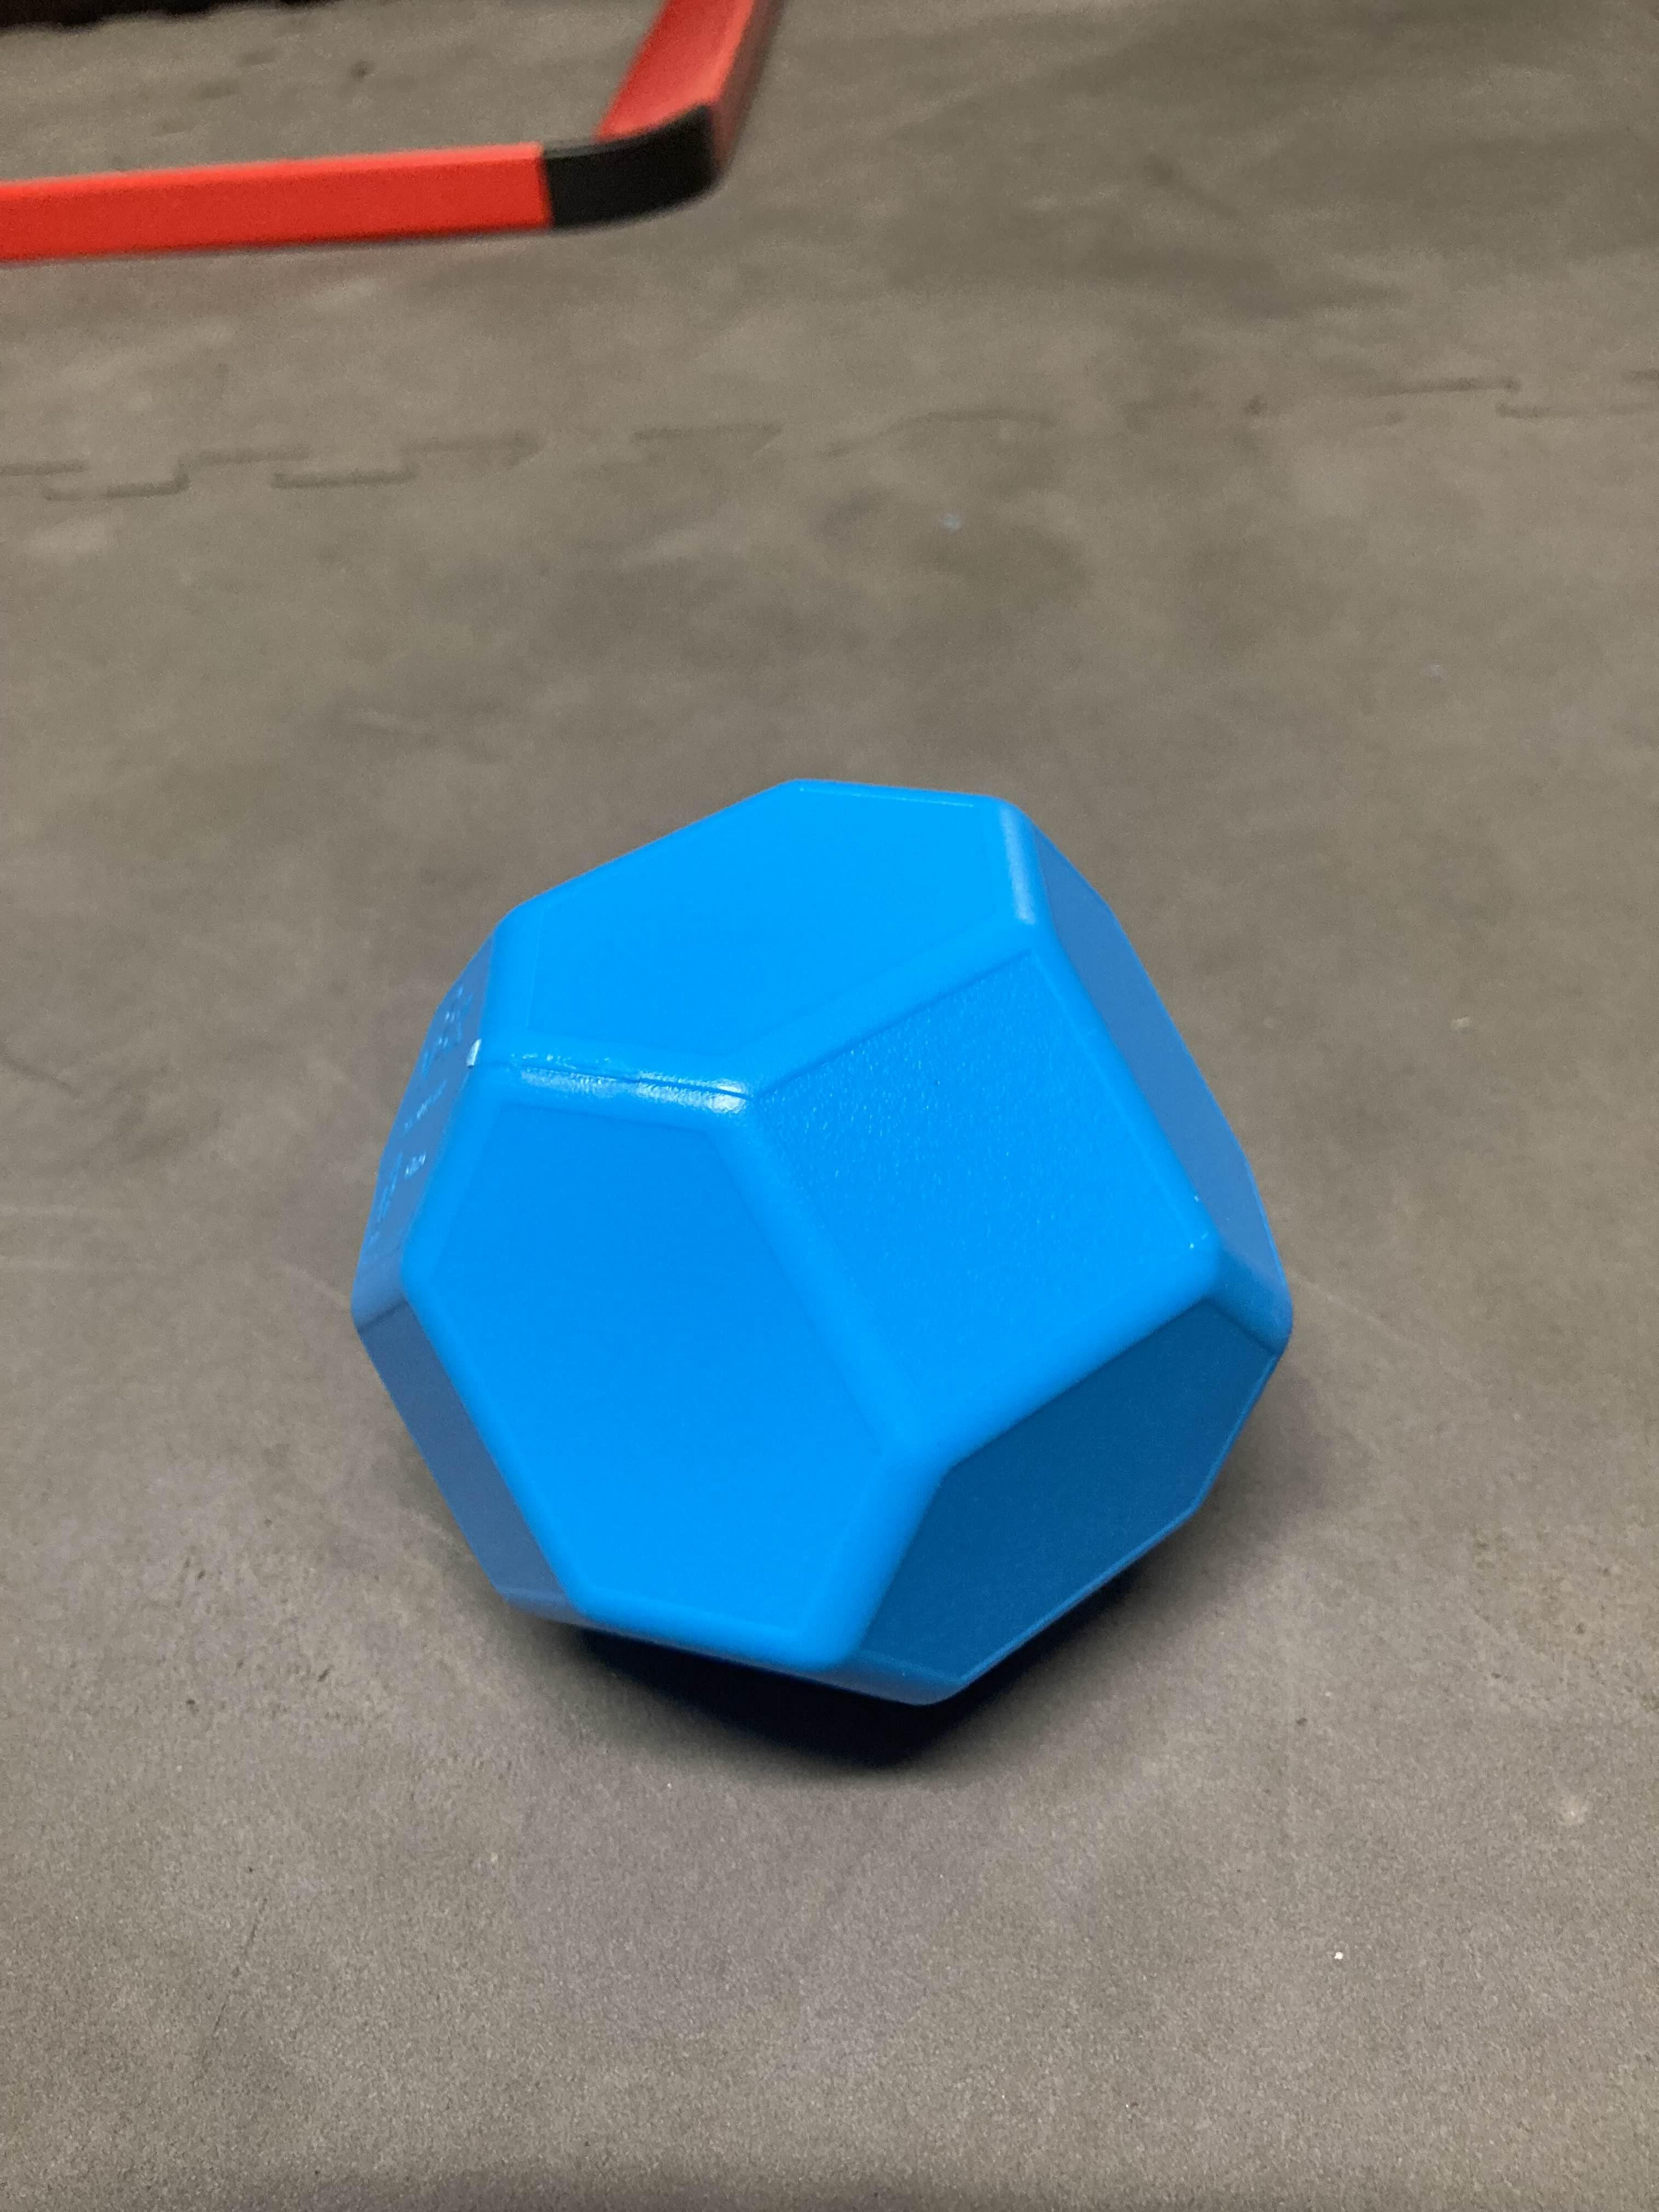Vex-Pieces-BLUE: (349, 779, 1298, 1723)
